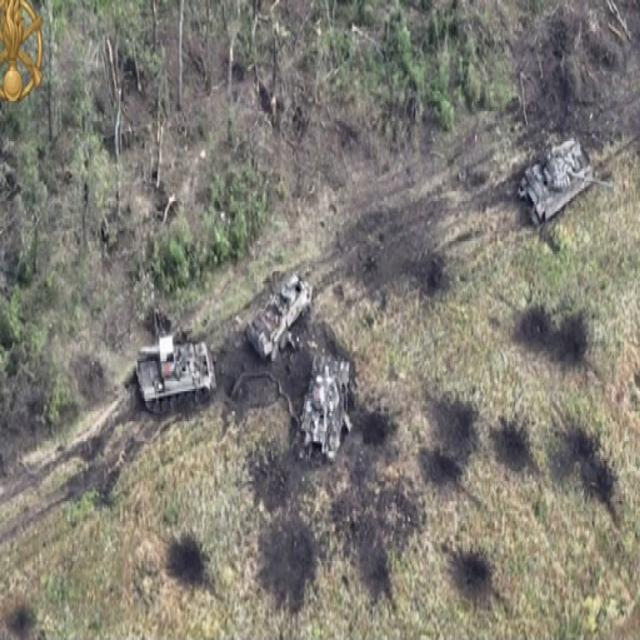APC-IFV: (129, 324, 221, 406), (245, 267, 316, 360)
TANK: (516, 131, 615, 233), (298, 351, 357, 480)
